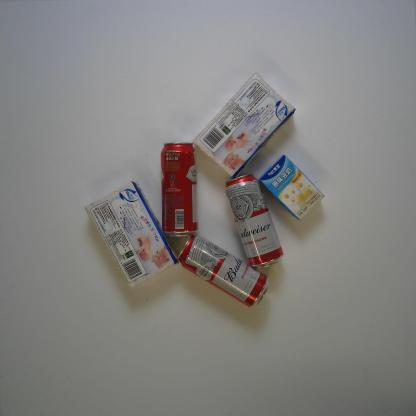Alcohol: (178, 234, 272, 308), (224, 172, 284, 270), (160, 142, 198, 236)
Milk: (258, 154, 326, 221)
Tissue: (192, 72, 297, 181), (83, 180, 179, 288)
